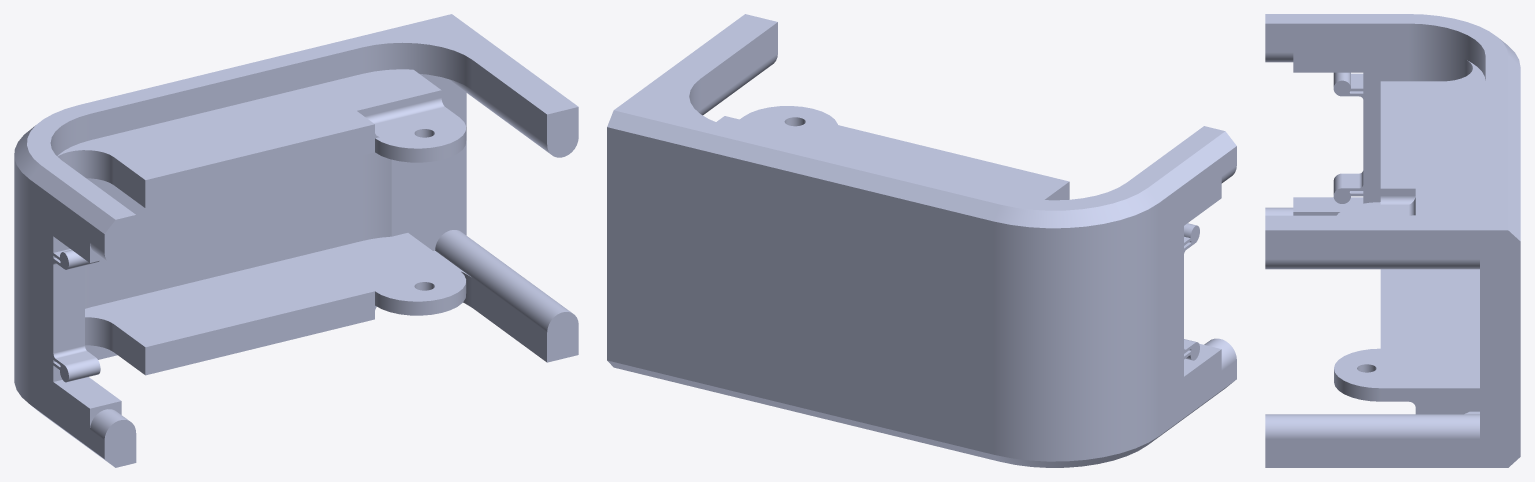
File: bateriaCover.glb
The picture shows the model from 3 angles, left to right: view 1: azimuth 30°, elevation 25°; view 2: azimuth 150°, elevation 25°; view 3: azimuth 270°, elevation 25°; orthographic projection. The views are drawn at different scales.
Parts seen in each view (by area): view 1: bateriaCover; view 2: bateriaCover; view 3: bateriaCover.
Part boxes in pixels (x1,y1,x2,y2): bateriaCover: (14, 14, 578, 467); bateriaCover: (607, 14, 1236, 467); bateriaCover: (1265, 14, 1520, 467).
Size of the model in its own units: 0.075 by 0.0375 by 0.0365.
